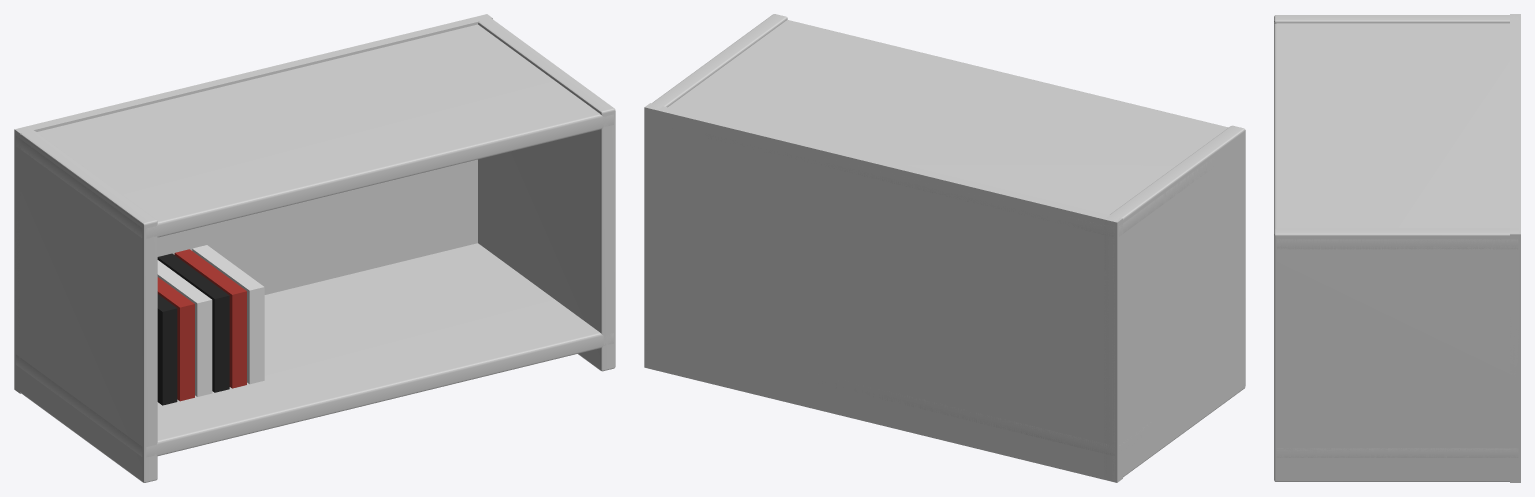
Rendered from SM_TVStand.fbx.
3 views of the same model, side by side, from view 1: azimuth 30°, elevation 25°; view 2: azimuth 150°, elevation 25°; view 3: azimuth 270°, elevation 25° (orthographic). The views are drawn at different scales.
Parts seen in each view (by area): view 1: SM_TVStand_1; view 2: SM_TVStand_1; view 3: SM_TVStand_1.
Boxes of the visible parts, box(x1,y1,x2,y2) form: SM_TVStand_1: box(14, 14, 615, 482); SM_TVStand_1: box(644, 14, 1245, 482); SM_TVStand_1: box(1274, 14, 1520, 482).
Size of the model in its own units: 95 by 50 by 45.
